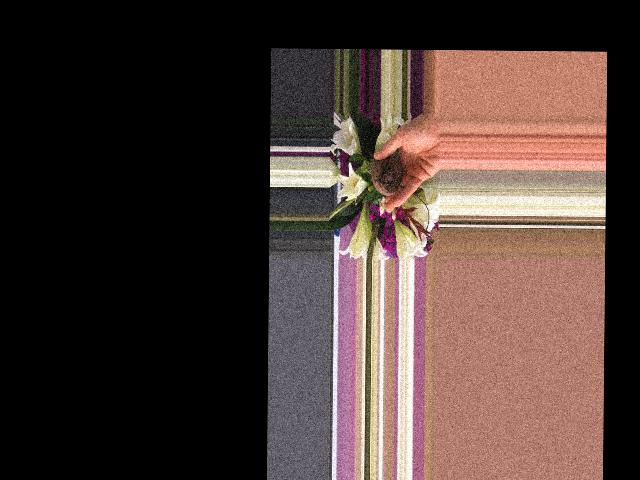beet: (371, 156, 403, 196)
